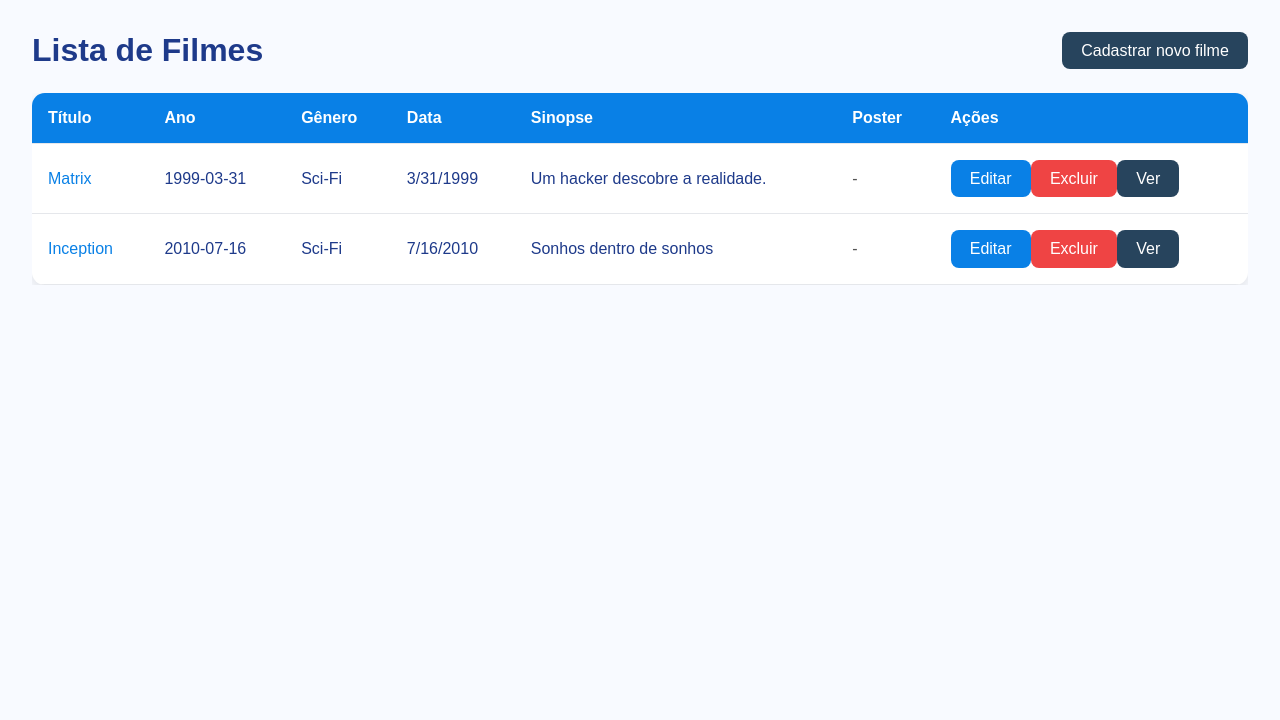
MoviesList › abre e fecha modal de exclusão corretamente
Click the button "Excluir" in the row of "Matrix" at [1074, 179], box [1031,160,1117,197]
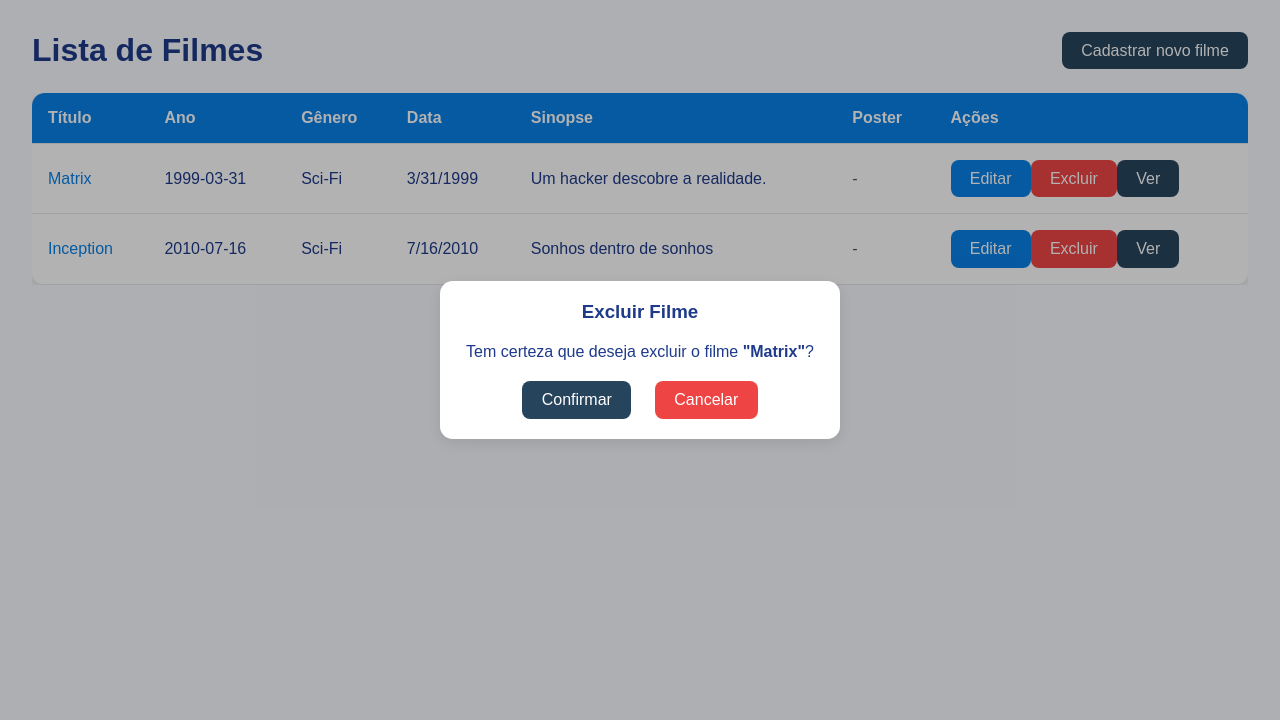
Now the text "\"Matrix\"" is shown, box [743,343,805,360]
Click the button "Cancelar" at [706, 400], box [655,381,758,419]
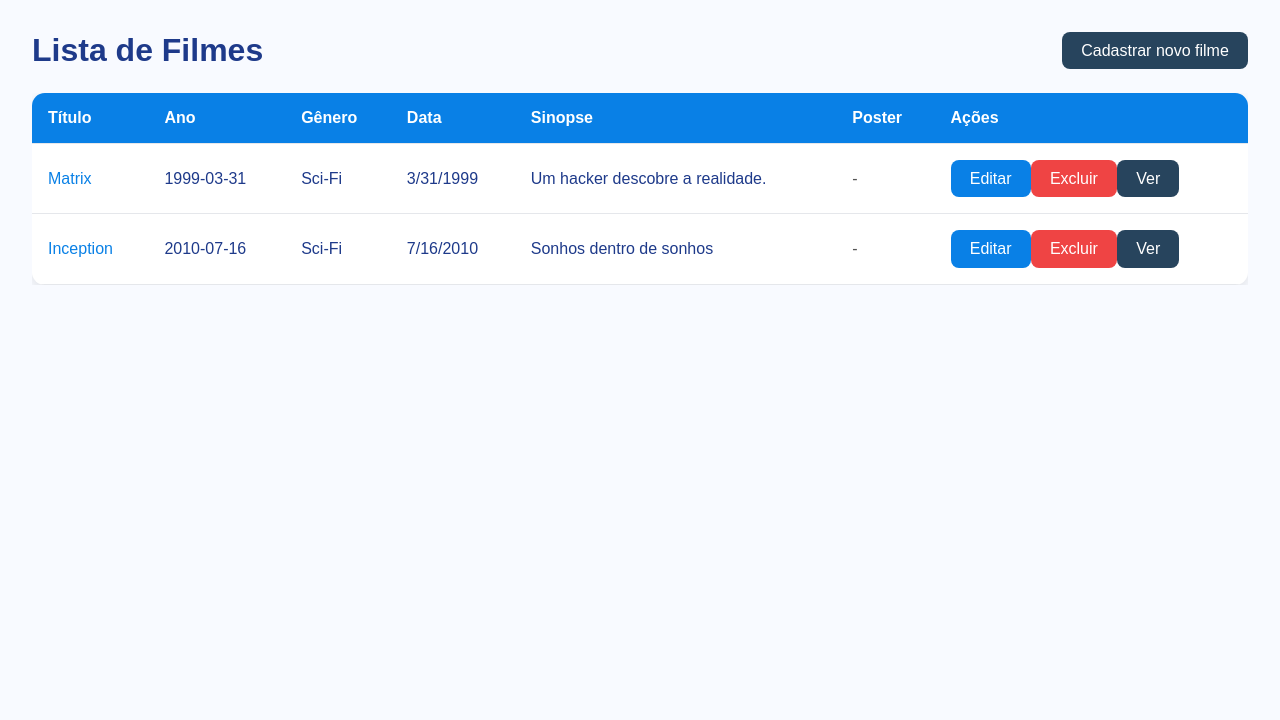
Now the text "Tem certeza que deseja excluir o filme" is gone
